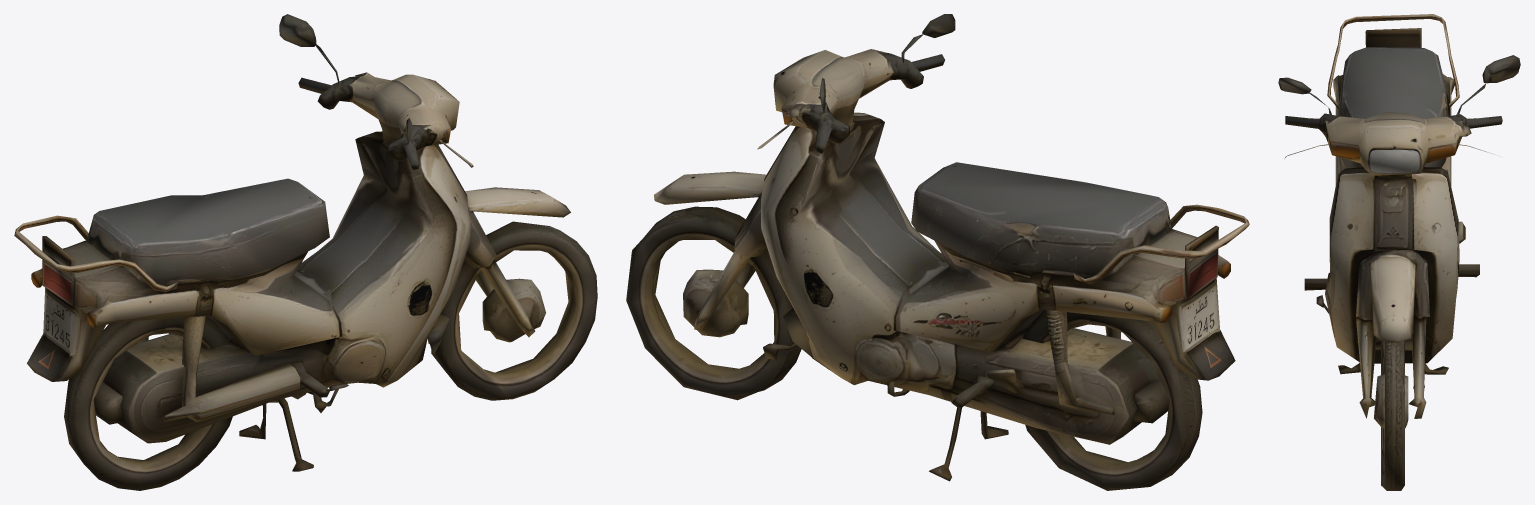
Rendered from Bike 1.fbx.
3 views of the same model, side by side, from view 1: azimuth 30°, elevation 25°; view 2: azimuth 150°, elevation 25°; view 3: azimuth 270°, elevation 25° (orthographic). The views are drawn at different scales.
Parts seen in each view (by area): view 1: tripo_node_0e5c88e4-a8d7-4e6d-81c9-c28f1489d093; view 2: tripo_node_0e5c88e4-a8d7-4e6d-81c9-c28f1489d093; view 3: tripo_node_0e5c88e4-a8d7-4e6d-81c9-c28f1489d093.
Boxes of the visible parts, x1,y1,x2,y2 form: tripo_node_0e5c88e4-a8d7-4e6d-81c9-c28f1489d093: [14, 14, 597, 490]; tripo_node_0e5c88e4-a8d7-4e6d-81c9-c28f1489d093: [626, 14, 1249, 490]; tripo_node_0e5c88e4-a8d7-4e6d-81c9-c28f1489d093: [1278, 14, 1520, 490].
Bounding box in the file's own units: 99.8 × 63.87 × 39.65.
1 material, 1 textured.
